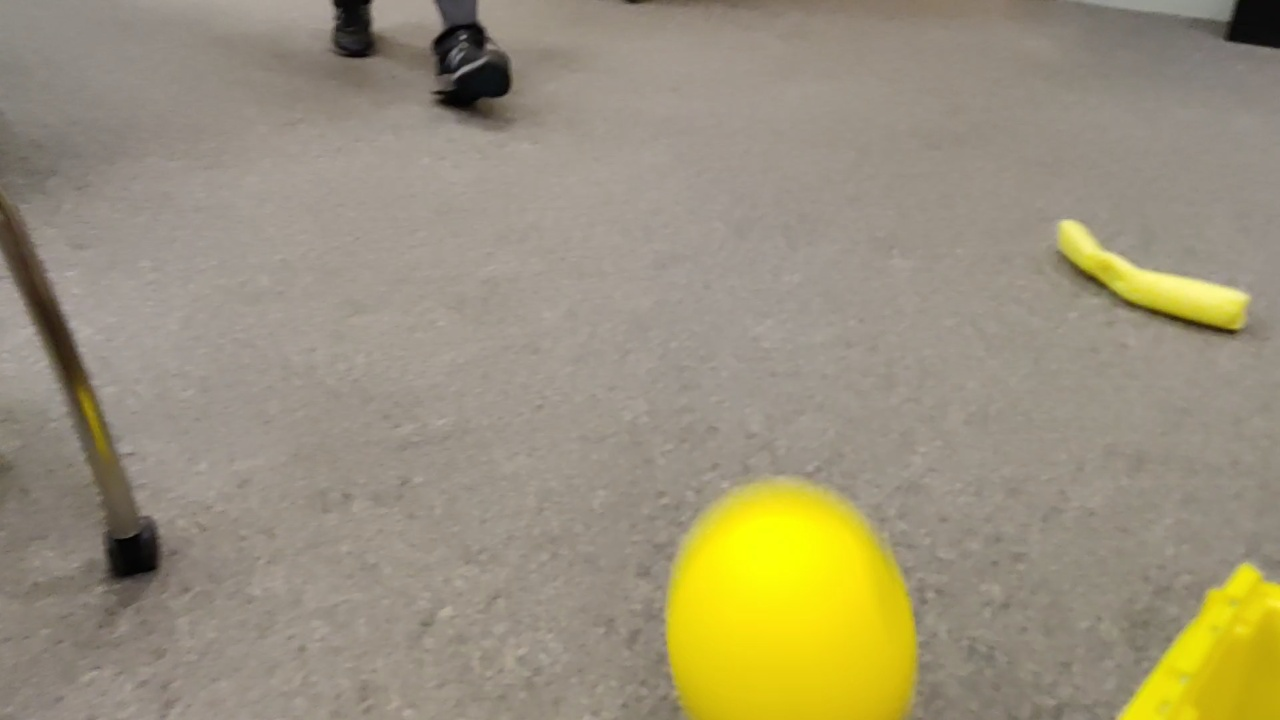Ball: (665, 473, 918, 720)
